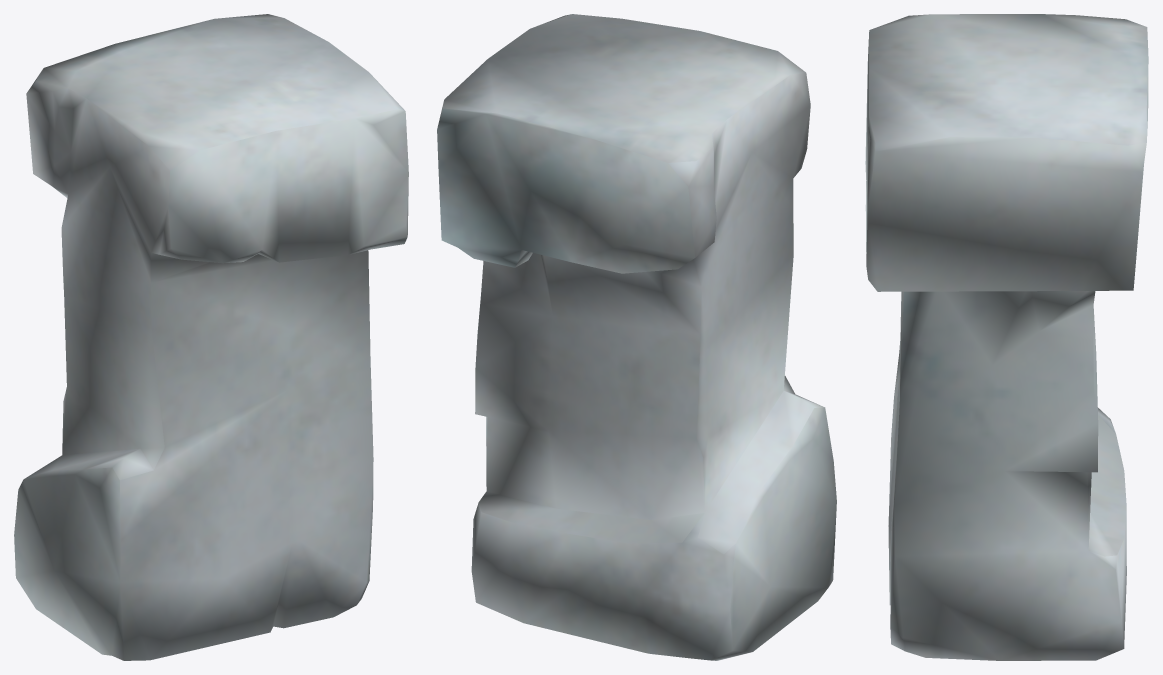
Rendered from P_CubicCliffPiece18.obj.
The picture shows the model from 3 angles, left to right: view 1: azimuth 30°, elevation 25°; view 2: azimuth 150°, elevation 25°; view 3: azimuth 270°, elevation 25°; orthographic projection. The views are drawn at different scales.
Size of the model in its own units: 25.66 by 45.18 by 21.53.
